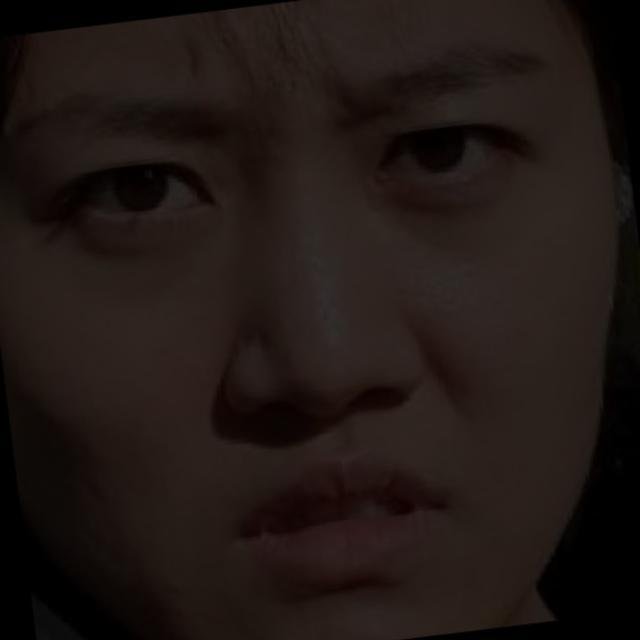Angry: (29, 30, 600, 607)
